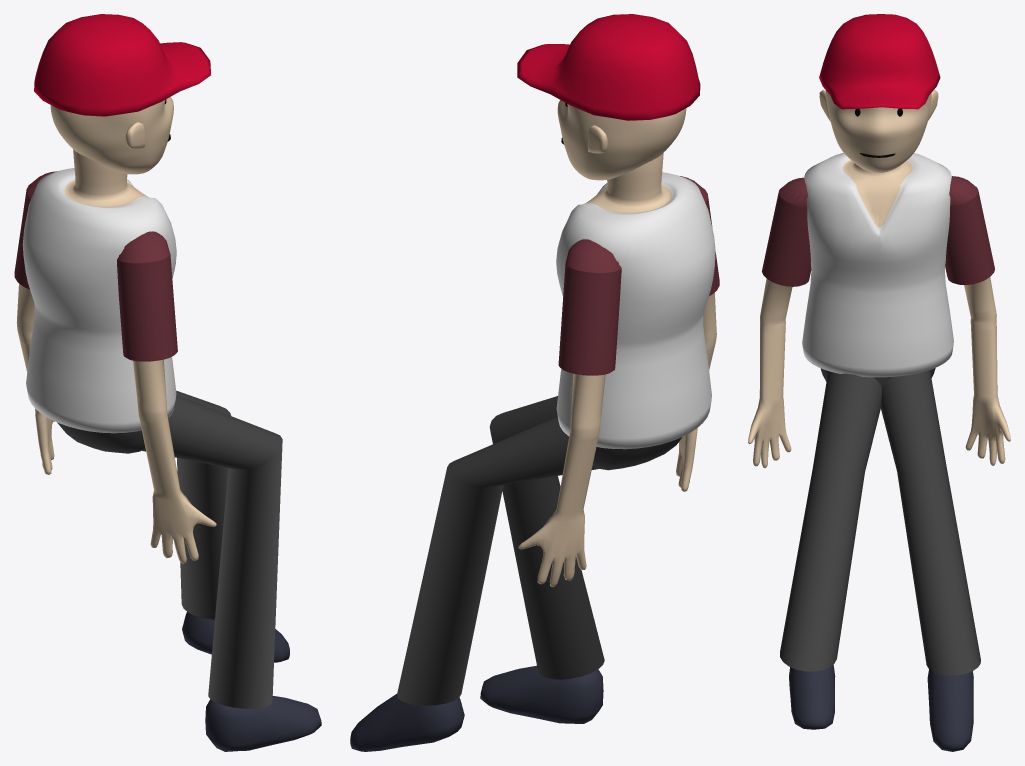
The picture shows the model from 3 angles, left to right: view 1: azimuth 30°, elevation 25°; view 2: azimuth 150°, elevation 25°; view 3: azimuth 270°, elevation 25°; orthographic projection. The views are drawn at different scales.
Parts seen in each view (by area): view 1: pCylinder12, pCylinder10, pCylinder15, pCube13, pCylinder11, pCube10, pCube16, pCylinder16, pCube15, pCube14; view 2: pCylinder12, pCylinder11, pCylinder16, pCube13, pCylinder10, pCube10, pCube16, pCube14, pCylinder15, pCube15; view 3: pCylinder12, pCylinder10, pCylinder11, pCube13, pCylinder16, pCylinder15, pCube10, pCube14, pCube16.
Part boxes in pixels (x1,y1,x2,y2): pCylinder12: (22,149,176,433); pCylinder10: (141,395,282,708); pCylinder15: (117,231,216,563); pCube13: (34,14,210,116); pCylinder11: (176,390,231,619); pCube10: (50,97,173,174); pCube16: (205,696,321,751); pCylinder16: (14,171,56,474); pCube15: (57,422,145,453); pCube14: (182,612,289,662); pCylinder12: (556,153,715,449); pCylinder11: (397,416,598,705); pCylinder16: (518,239,621,587); pCube13: (517,14,700,120); pCylinder10: (489,396,604,679); pCube10: (557,100,686,180); pCube16: (480,665,603,723); pCube14: (350,693,464,751); pCylinder15: (676,176,719,491); pCube15: (592,437,681,470); pCylinder12: (802,152,953,377); pCylinder10: (780,371,881,671); pCylinder11: (881,370,980,675); pCube13: (819,14,940,109); pCylinder16: (945,176,1010,465); pCylinder15: (748,177,811,468); pCube10: (825,90,931,172); pCube14: (927,669,973,751); pCube16: (789,664,835,729).
Bounding box in the file's own units: 12.62 × 29.35 × 10.99.
